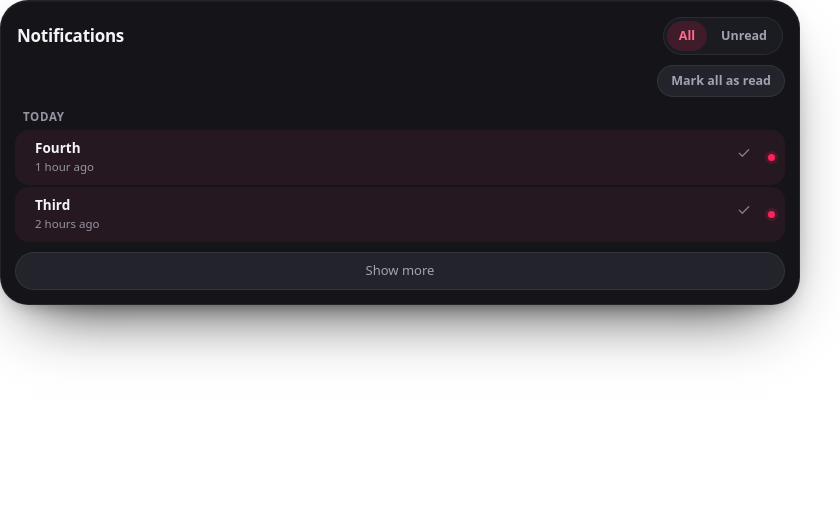
Test case: Inbox filters and paging › appends the next page and hides the control at the end
expect the text "Third" is shown: met, box [35,196,70,214]
expect the text "Second" is not shown: met
Click the button "Show more" at [400, 271], box [15,252,785,290]
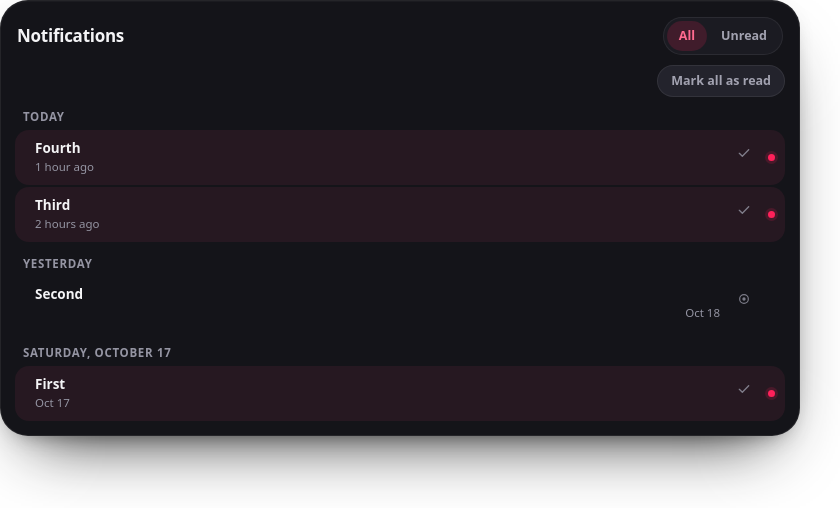
expect the text "Second" is shown: met, box [35,285,83,303]
expect the text "First" is shown: met, box [35,375,65,393]
expect the button "Show more" is gone: met
